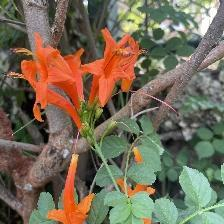honeysuckle: (89, 41, 143, 105)
